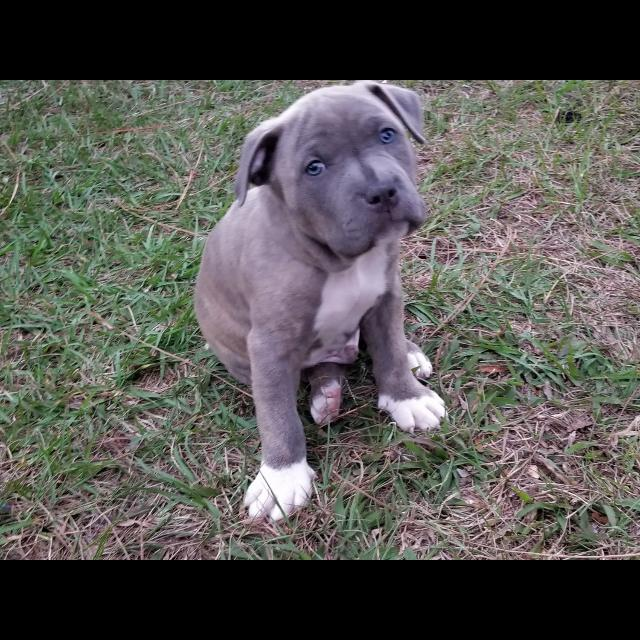am_pit_bull_terrier: (194, 81, 448, 523)
